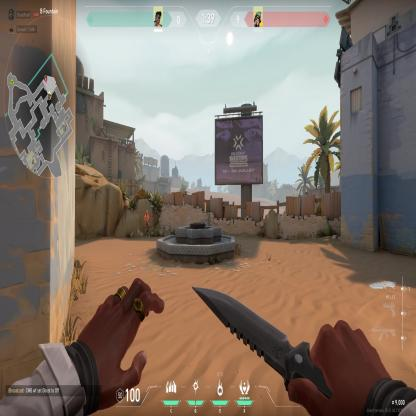enemy: (143, 208, 151, 238)
